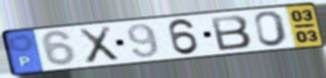0: (253, 10, 290, 48)
6: (39, 29, 80, 68), (167, 18, 201, 56)
9: (126, 22, 162, 59)
B: (208, 14, 254, 52)
X: (76, 24, 121, 65)
